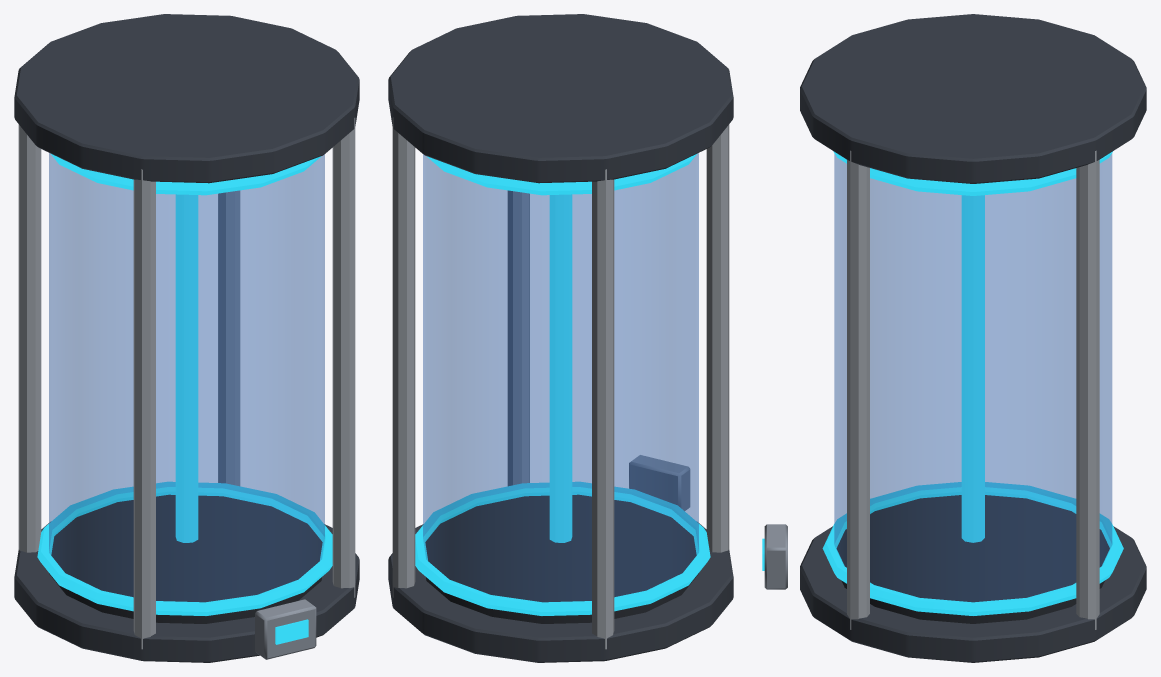
The model's file is forcefield_containment_projector.glb.
The picture shows the model from 3 angles, left to right: view 1: azimuth 30°, elevation 25°; view 2: azimuth 150°, elevation 25°; view 3: azimuth 270°, elevation 25°; orthographic projection.
Parts seen in each view (by area): view 1: forcefield_containment_projector; view 2: forcefield_containment_projector; view 3: forcefield_containment_projector.
Part boxes in pixels (<box>): forcefield_containment_projector: <box>14,14,359,662</box>; forcefield_containment_projector: <box>388,14,733,662</box>; forcefield_containment_projector: <box>762,14,1146,662</box>.
Size of the model in its own units: 1.5 by 2.4 by 1.66.
